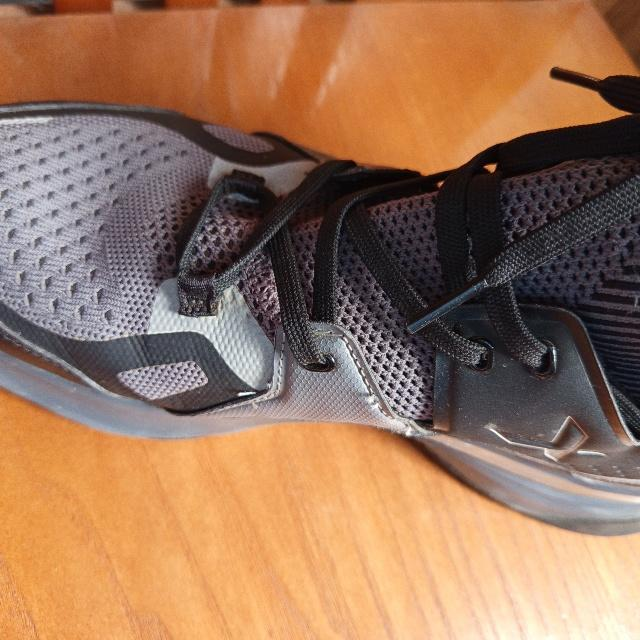broken: (364, 391, 381, 413)
